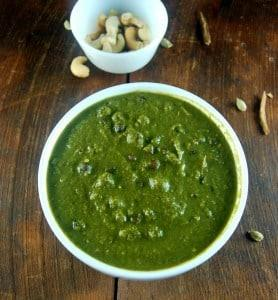PalakPaneer: (47, 88, 238, 271)
